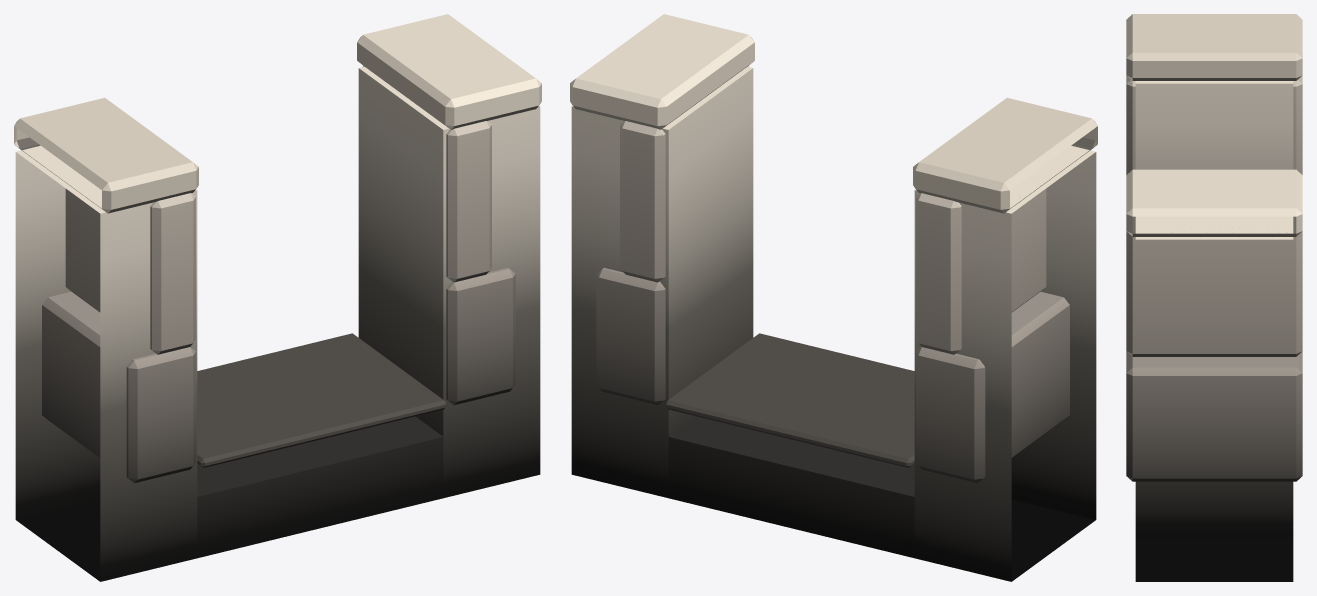
Rendered from SM_VKI_Wall_Dungeon_Door_150_Cut.fbx.
3 renders of one model, left to right at view 1: azimuth 30°, elevation 25°; view 2: azimuth 150°, elevation 25°; view 3: azimuth 270°, elevation 25°, orthographic. The views are drawn at different scales.
Visible parts, largest first — view 1: SM_VKI_Wall_Dungeon_Door_150_Cut.001; view 2: SM_VKI_Wall_Dungeon_Door_150_Cut.001; view 3: SM_VKI_Wall_Dungeon_Door_150_Cut.001.
Boxes of the visible parts, <box> form: SM_VKI_Wall_Dungeon_Door_150_Cut.001: <box>14,14,541,581</box>; SM_VKI_Wall_Dungeon_Door_150_Cut.001: <box>570,14,1097,581</box>; SM_VKI_Wall_Dungeon_Door_150_Cut.001: <box>1126,14,1302,581</box>.
Size of the model in its own units: 1.5 by 1.3 by 0.56.
